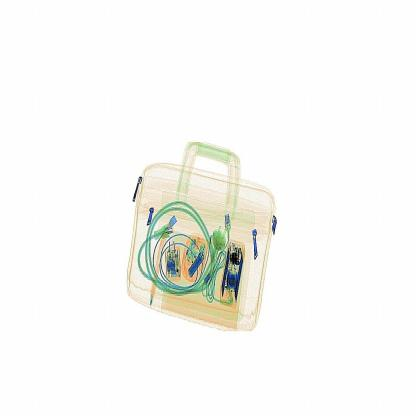scissors: (227, 248, 243, 268)
